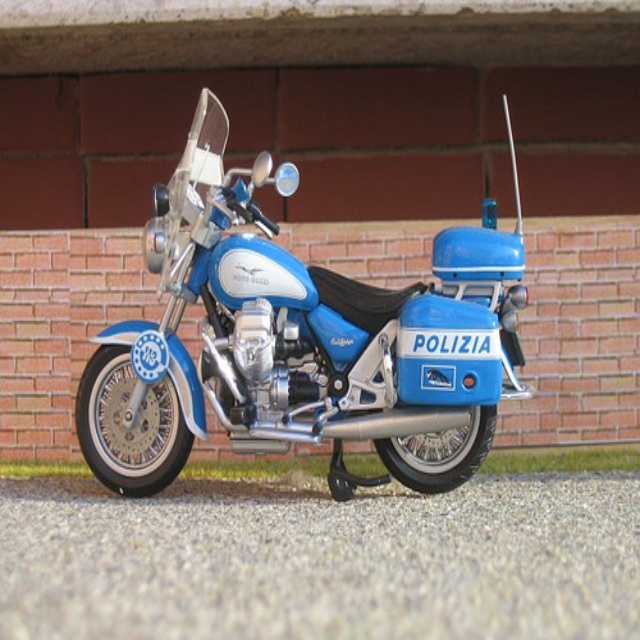Motorcycle: (76, 152, 524, 493)
